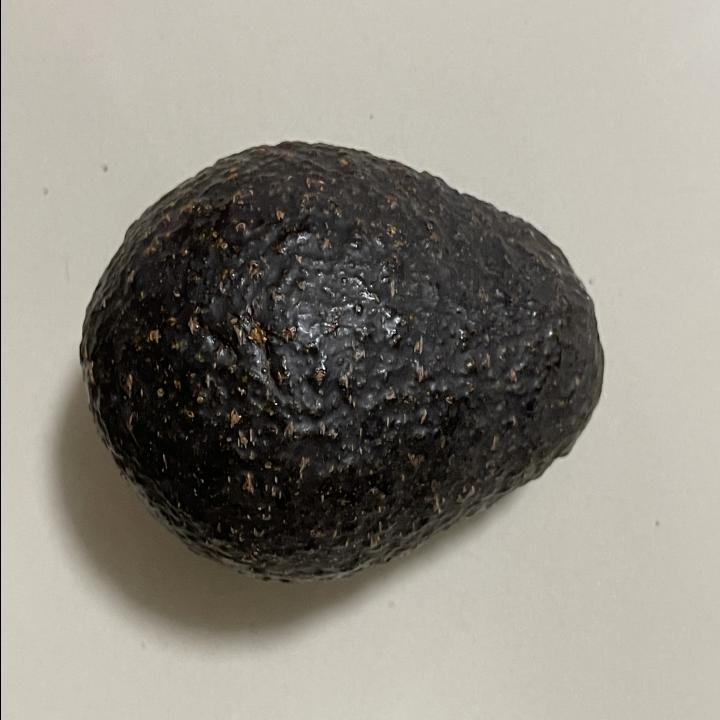Level1: (70, 127, 616, 601)
